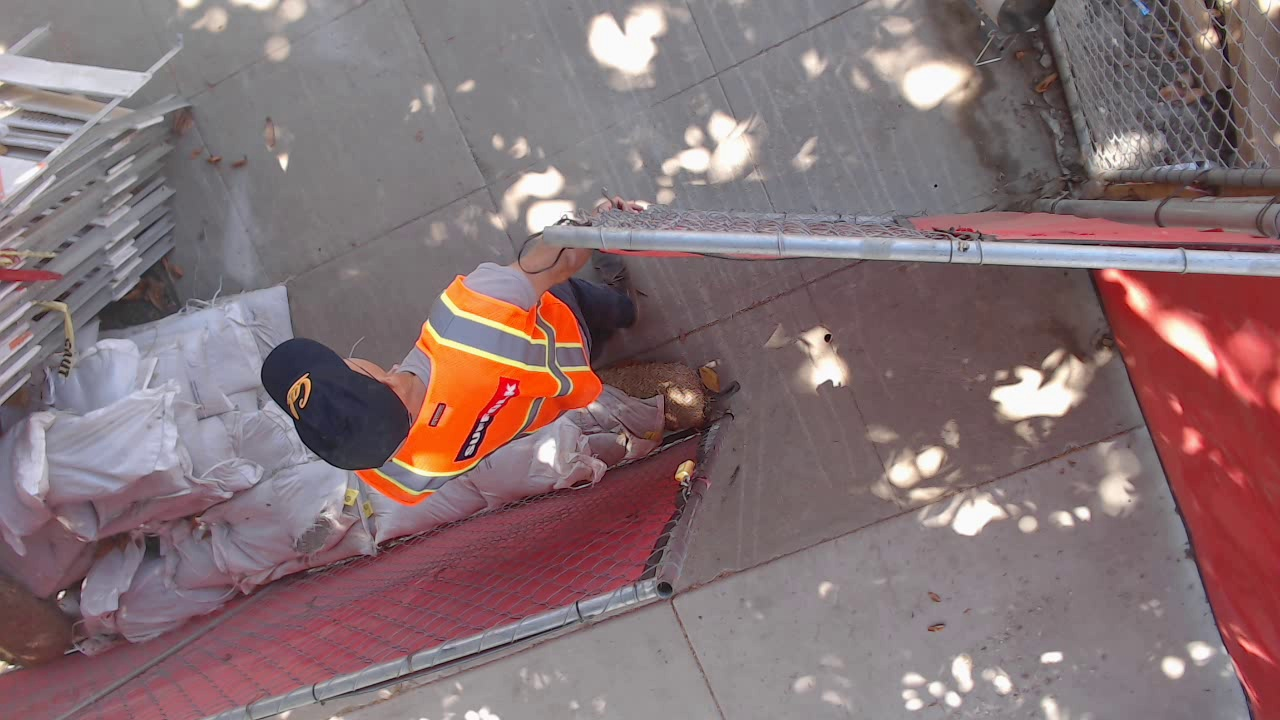person: (286, 262, 636, 498)
safetyvest: (351, 274, 601, 509)
